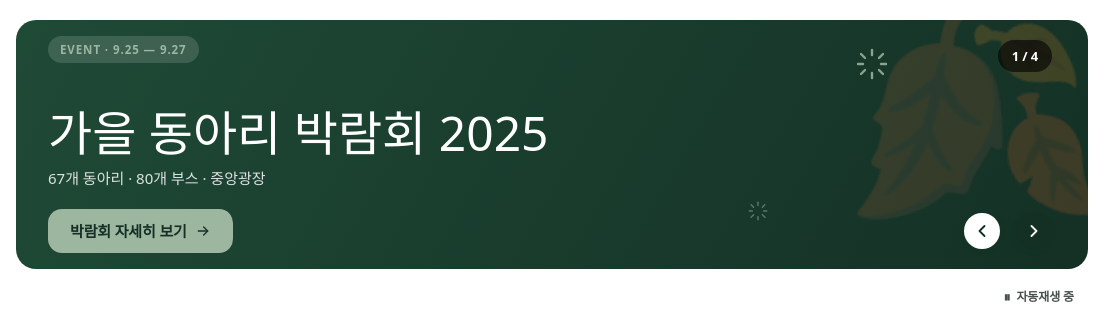
it: BannerCarouselClient — 포인터 스와이프 › 거리 임계를 넘게 좌로 드래그하면 다음 배너로 넘어간다(거리 경로)
Press the mouse on the element with test id "banner-carousel-viewport" at point(552, 145), box [16, 20, 1088, 269]
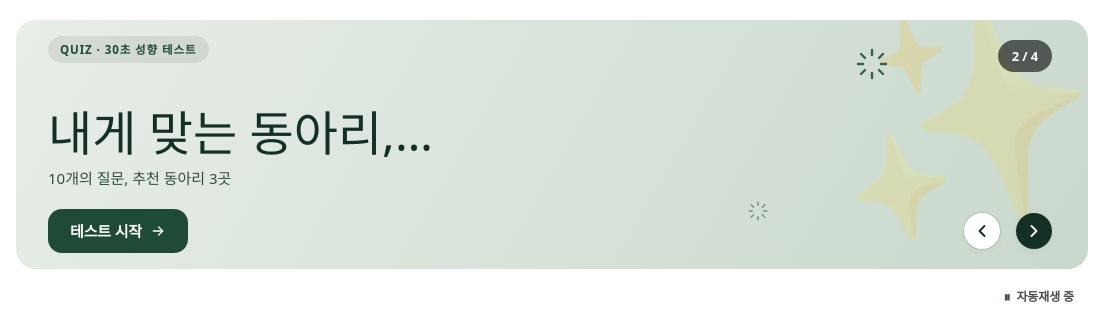
Result: the button with test id "banner-pager" reads "2 / 4" at [998, 40, 1052, 72]
